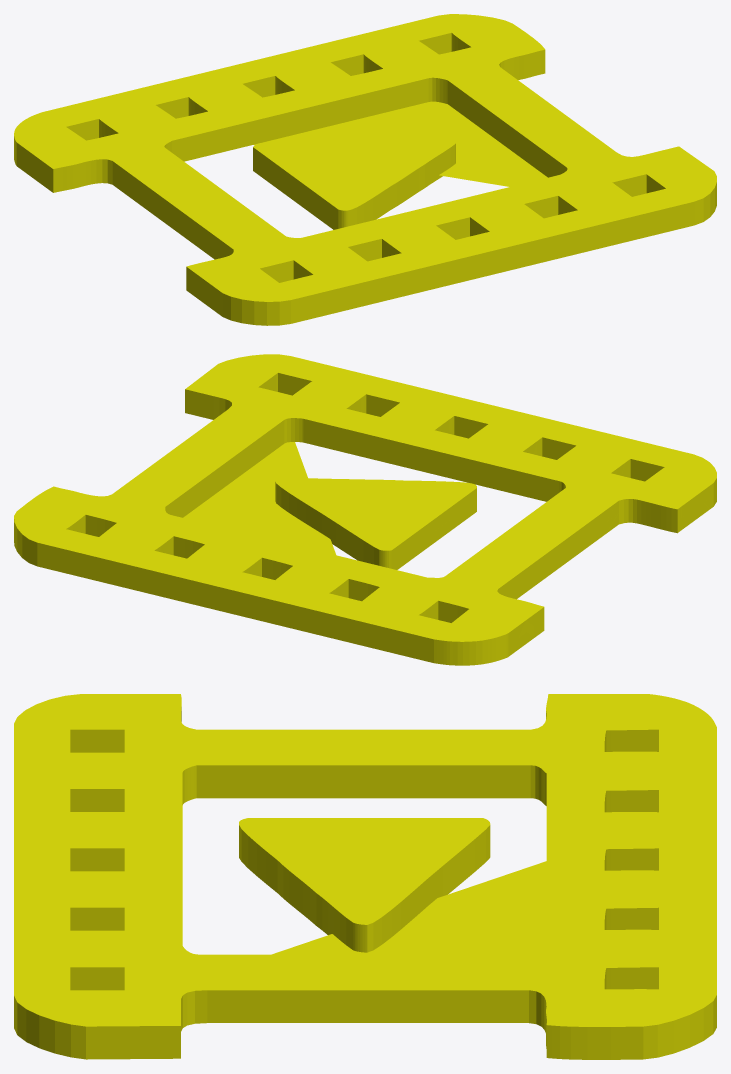
Rendered from FreeCoin_2.fbx.
3 renders of one model, top to bottom at view 1: azimuth 30°, elevation 25°; view 2: azimuth 150°, elevation 25°; view 3: azimuth 270°, elevation 25°, orthographic. The views are drawn at different scales.
Visible parts, largest first — view 1: polySurface6; view 2: polySurface6; view 3: polySurface6.
Part boxes in pixels (x1,y1,x2,y2): polySurface6: (14,14,716,325); polySurface6: (14,354,716,665); polySurface6: (14,694,716,1059).
Bounding box in the file's own units: 3.45 × 0.1846 × 3.08.
